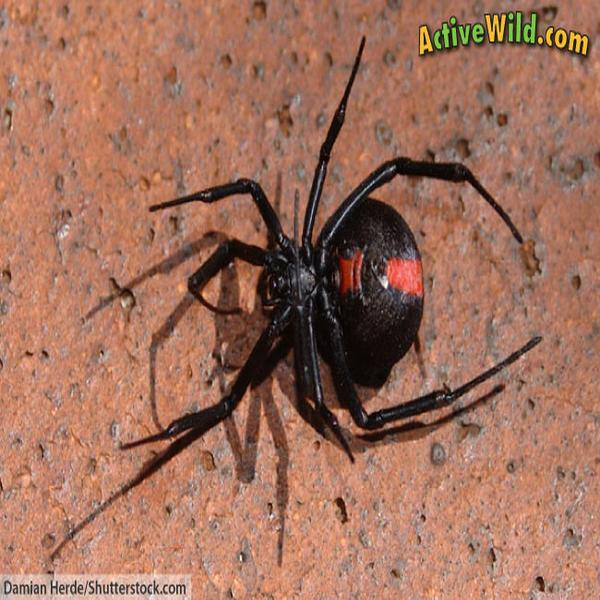Redback_Spider: (122, 37, 539, 485)
